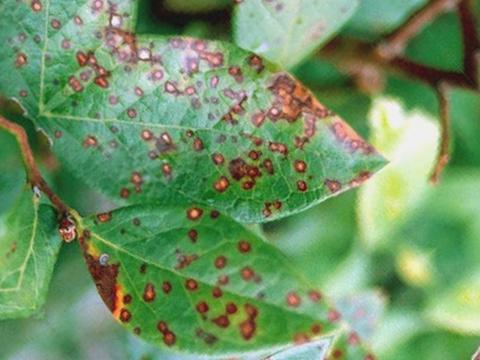Tomato Septoria leaf spot: (28, 0, 397, 331), (37, 105, 353, 360)
